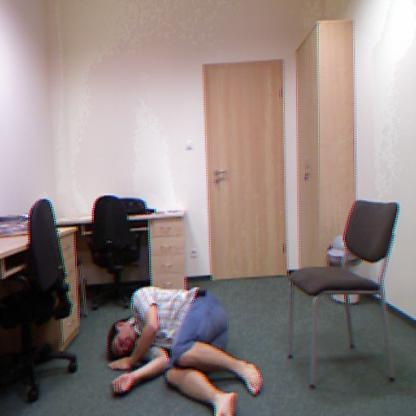fall: (109, 280, 262, 416)
